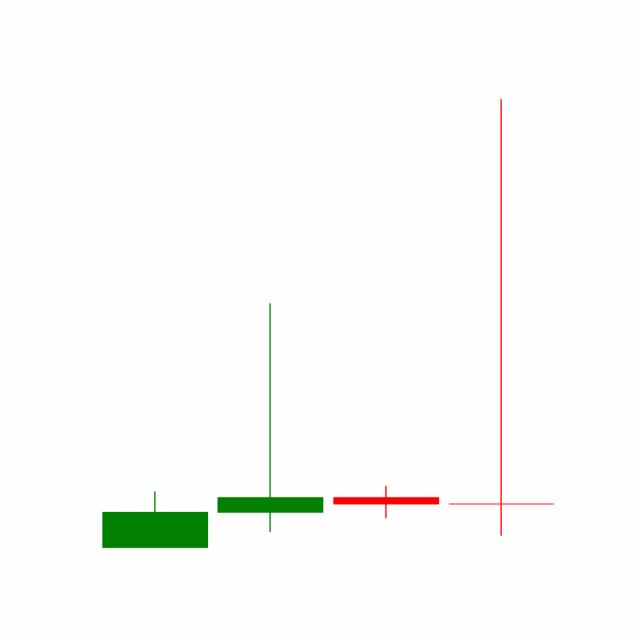Spinning Top: (443, 94, 559, 541)
